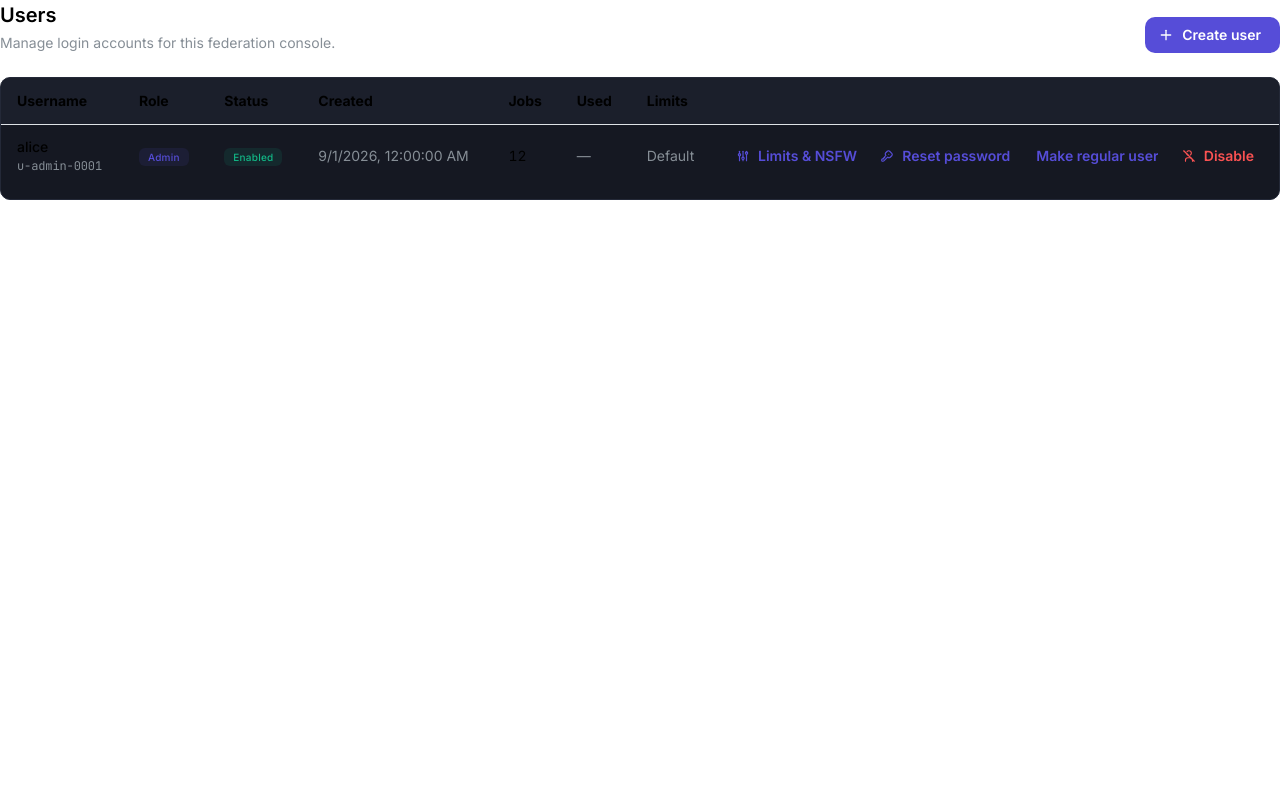
it: Users page: error mapping › surfaces the translated last_admin message when disabling the last admin is rejected
Expected: the text "alice" is shown, [17, 138, 48, 155]
Click the button "Disable": click(1219, 156) [1176, 143, 1263, 169]
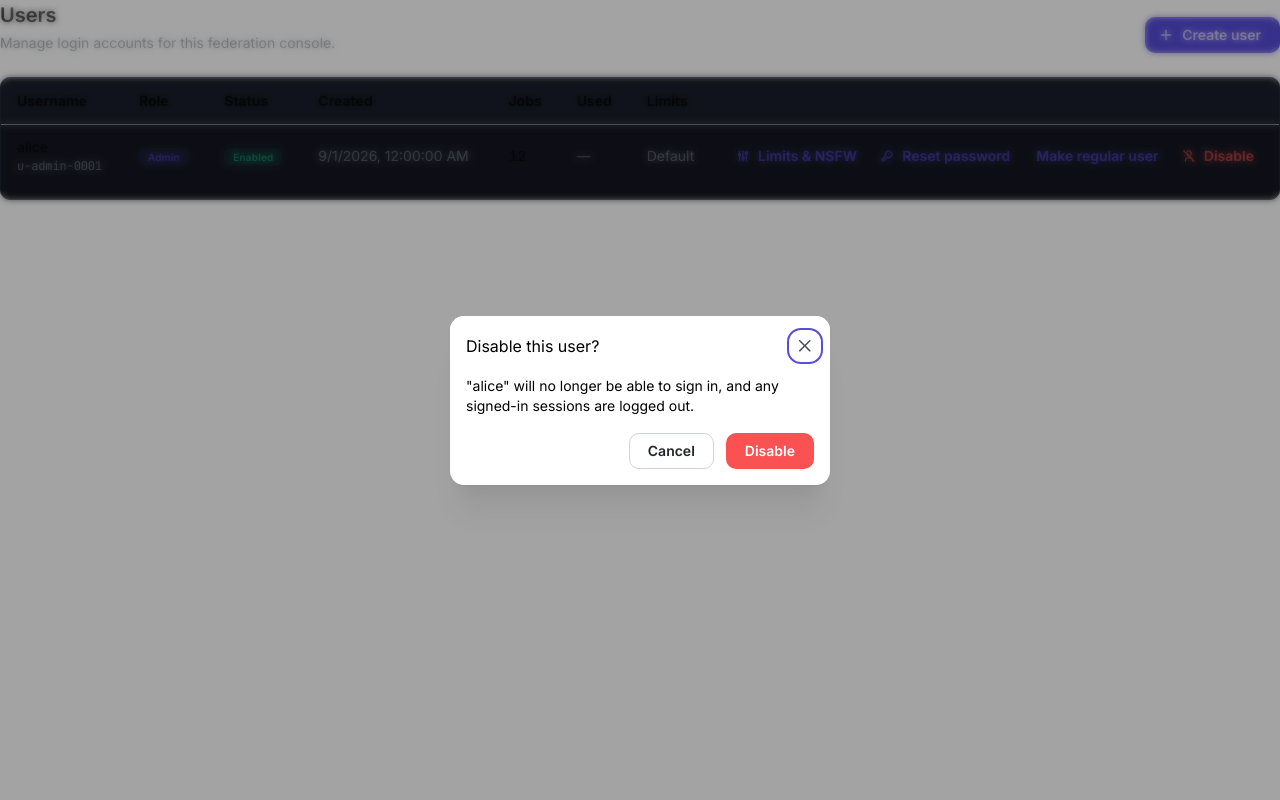
Click the button "Disable": click(770, 450) [726, 432, 814, 468]
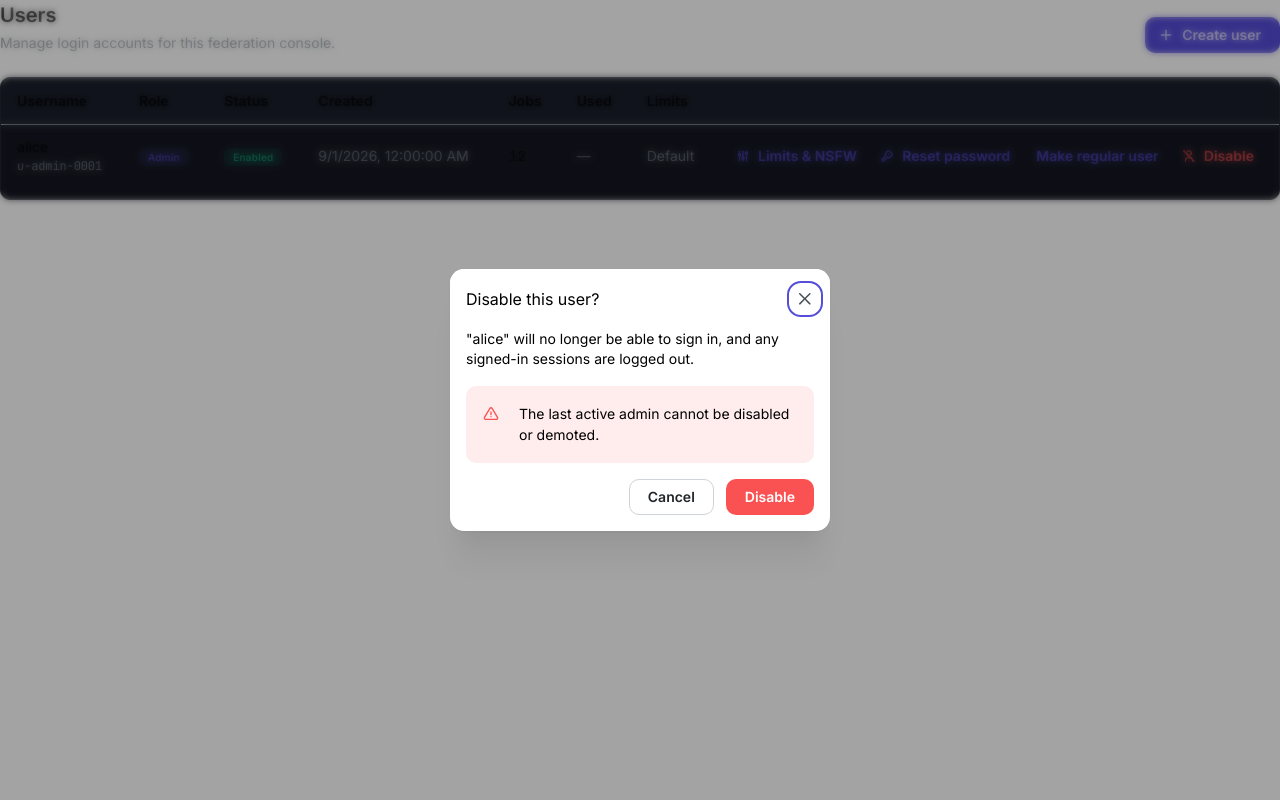
Expected: the text "The last active admin cannot be disabled or demoted." is shown, [519, 403, 797, 446]
